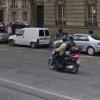Motorcycle: (42, 42, 81, 83)
